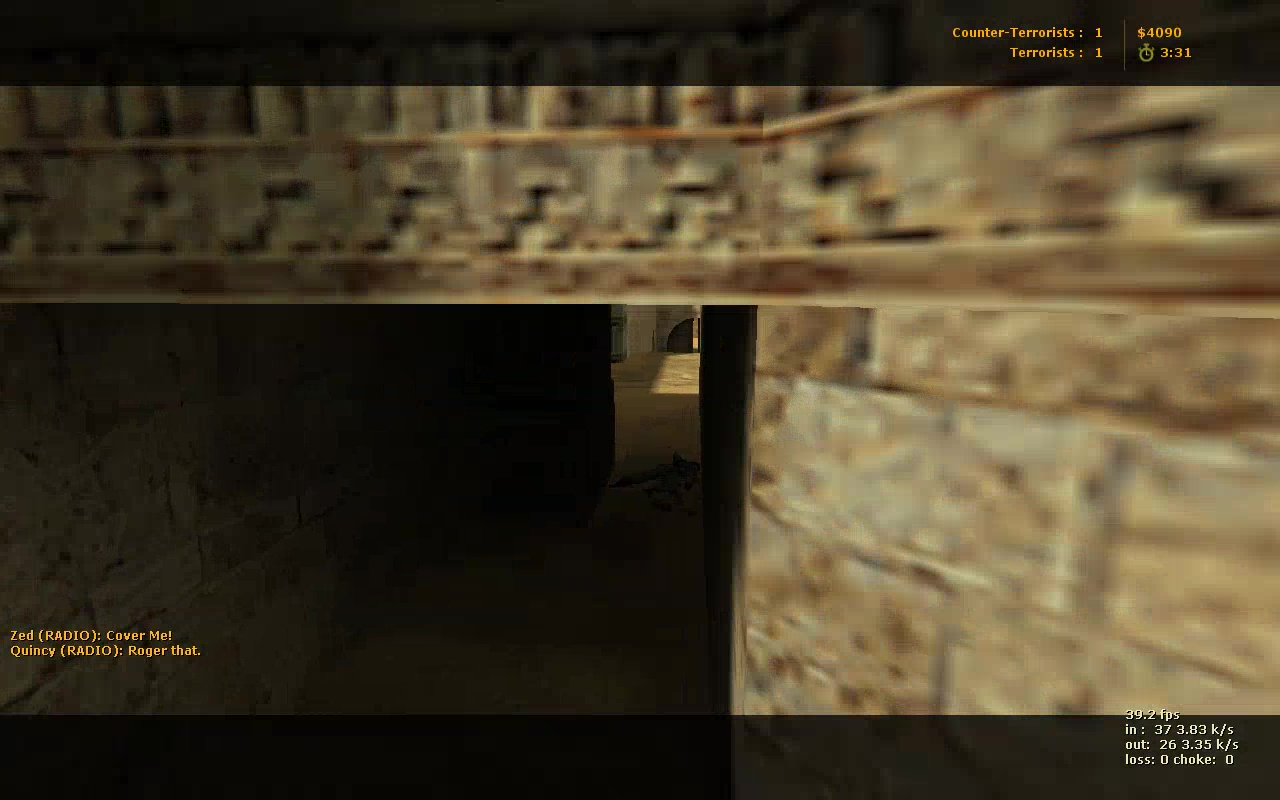dead: (613, 457, 697, 501)
